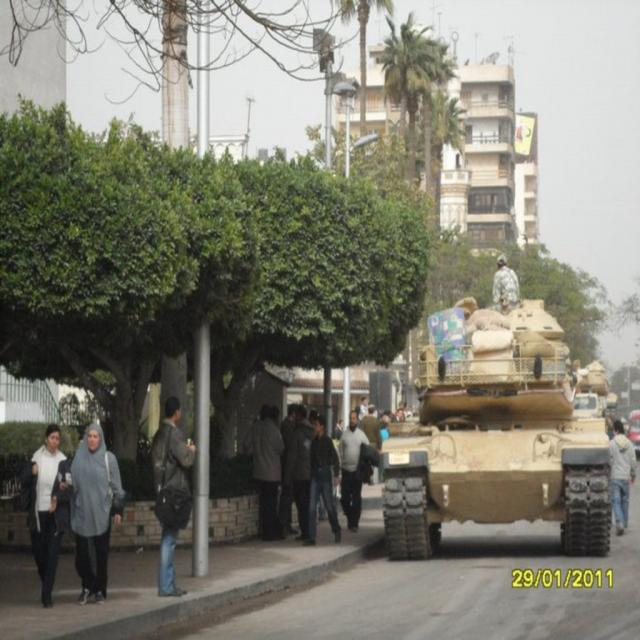tank: (378, 296, 613, 555)
